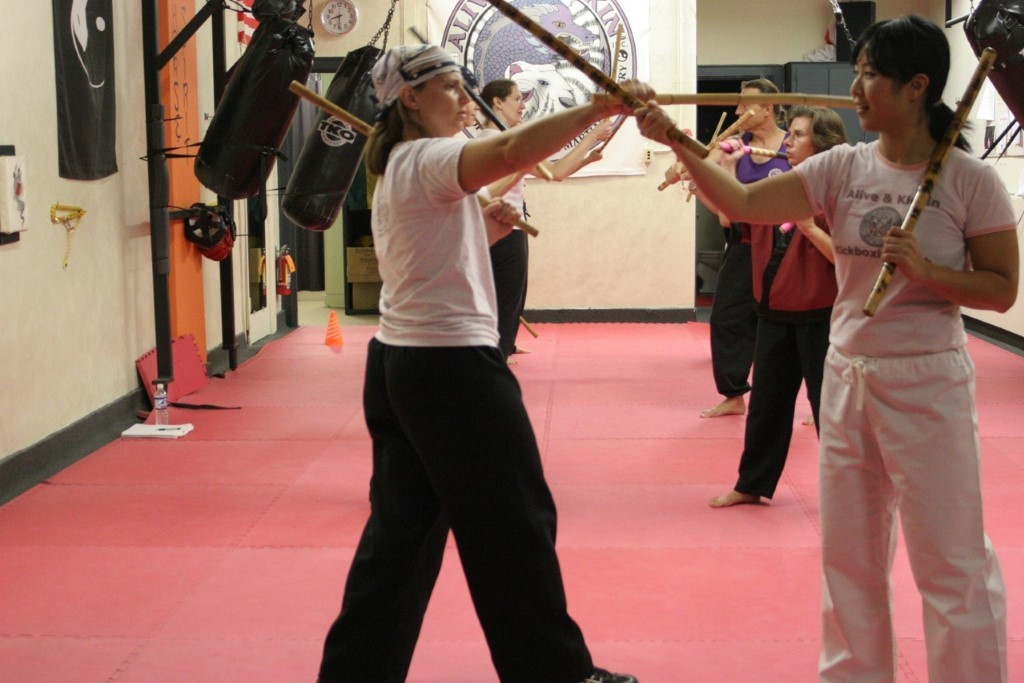baston_e: (295, 83, 532, 233), (489, 2, 700, 155), (875, 54, 988, 311), (418, 31, 547, 183), (660, 112, 750, 189), (632, 92, 854, 111), (689, 116, 727, 196), (724, 141, 785, 160), (610, 28, 625, 86)
baston_v: (588, 89, 608, 111), (857, 302, 878, 319), (980, 42, 998, 60), (283, 76, 300, 95), (696, 141, 711, 162), (715, 138, 732, 154), (527, 224, 542, 241), (541, 168, 556, 182), (744, 107, 758, 118), (406, 22, 416, 32), (655, 183, 665, 192), (615, 18, 624, 28), (531, 330, 539, 339), (720, 109, 729, 116), (682, 197, 691, 202)
